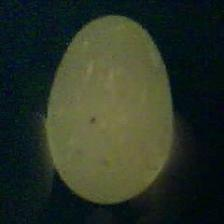infertile: (44, 10, 177, 205)
